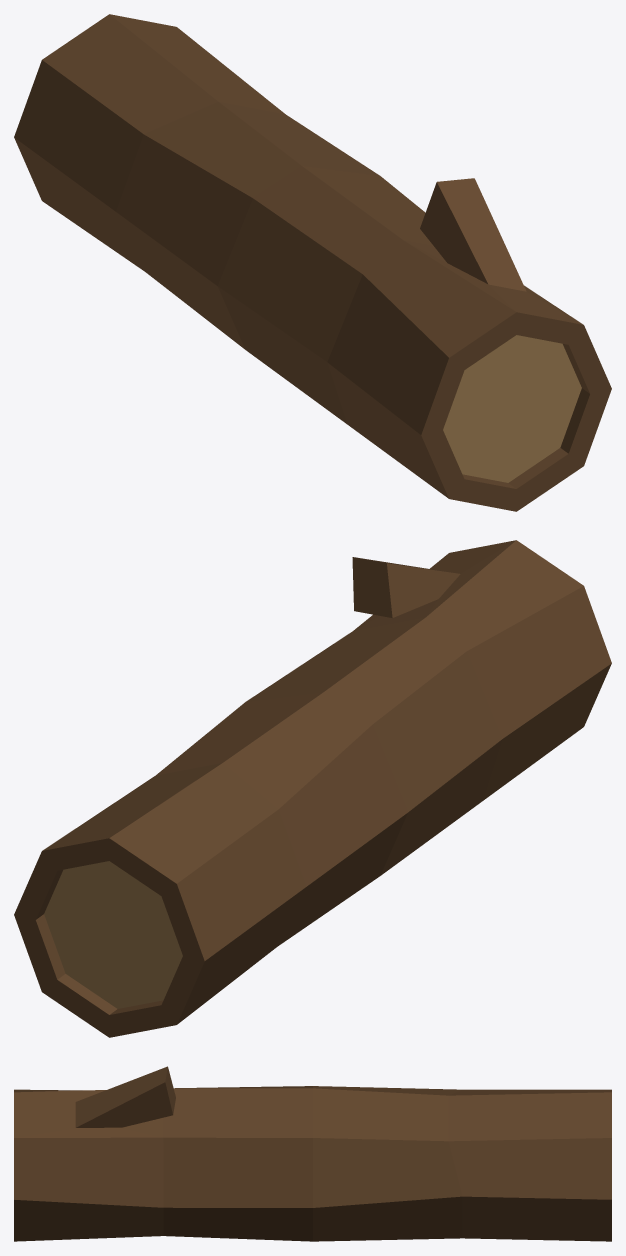
Rendered from BatangPohon4.fbx.
The picture shows the model from 3 angles, top to bottom: view 1: azimuth 30°, elevation 25°; view 2: azimuth 150°, elevation 25°; view 3: azimuth 270°, elevation 25°; orthographic projection. The views are drawn at different scales.
Parts seen in each view (by area): view 1: log_7a; view 2: log_7a; view 3: log_7a.
Boxes of the visible parts, x1=… form: log_7a: x1=14, y1=14, x2=611, y2=511; log_7a: x1=14, y1=540, x2=611, y2=1037; log_7a: x1=14, y1=1066, x2=611, y2=1241.
Bounding box in the file's own units: 53.77 × 65.85 × 197.
